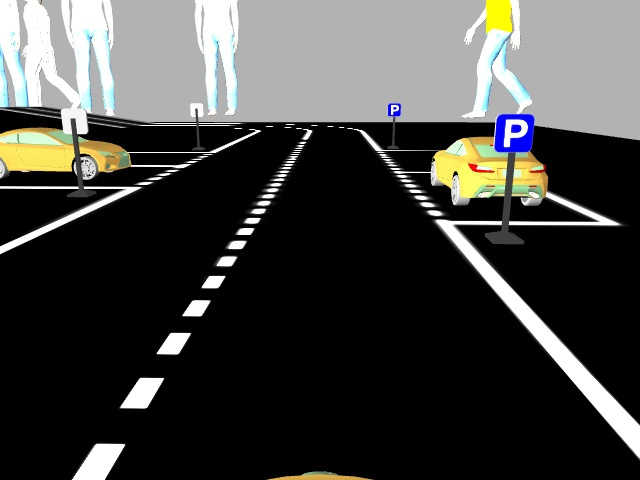Parking: (492, 113, 534, 153), (386, 103, 400, 117)
